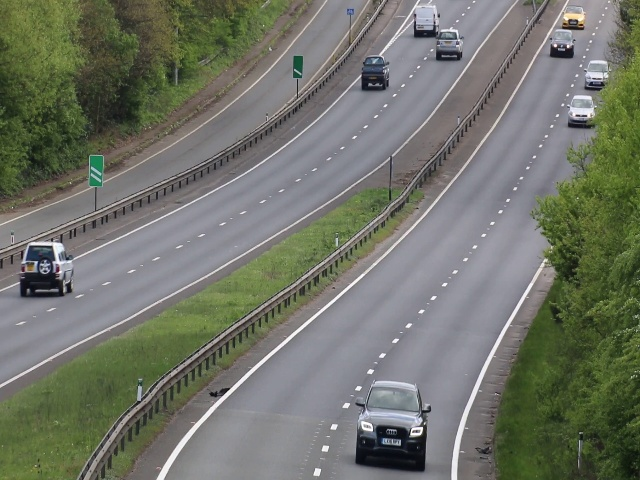car: (359, 377, 426, 471), (20, 239, 76, 295), (435, 26, 466, 62), (569, 92, 594, 127), (362, 57, 389, 89), (412, 6, 439, 36), (585, 58, 609, 90), (549, 28, 574, 58), (561, 6, 586, 30)
